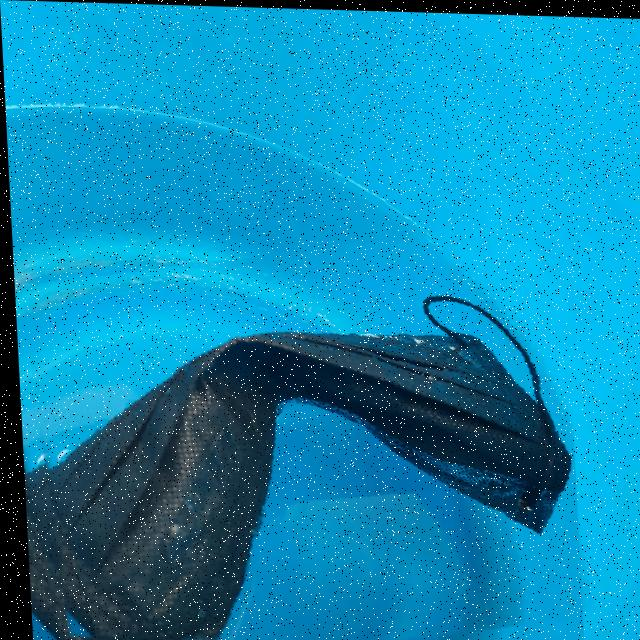litter: (9, 230, 578, 640)
